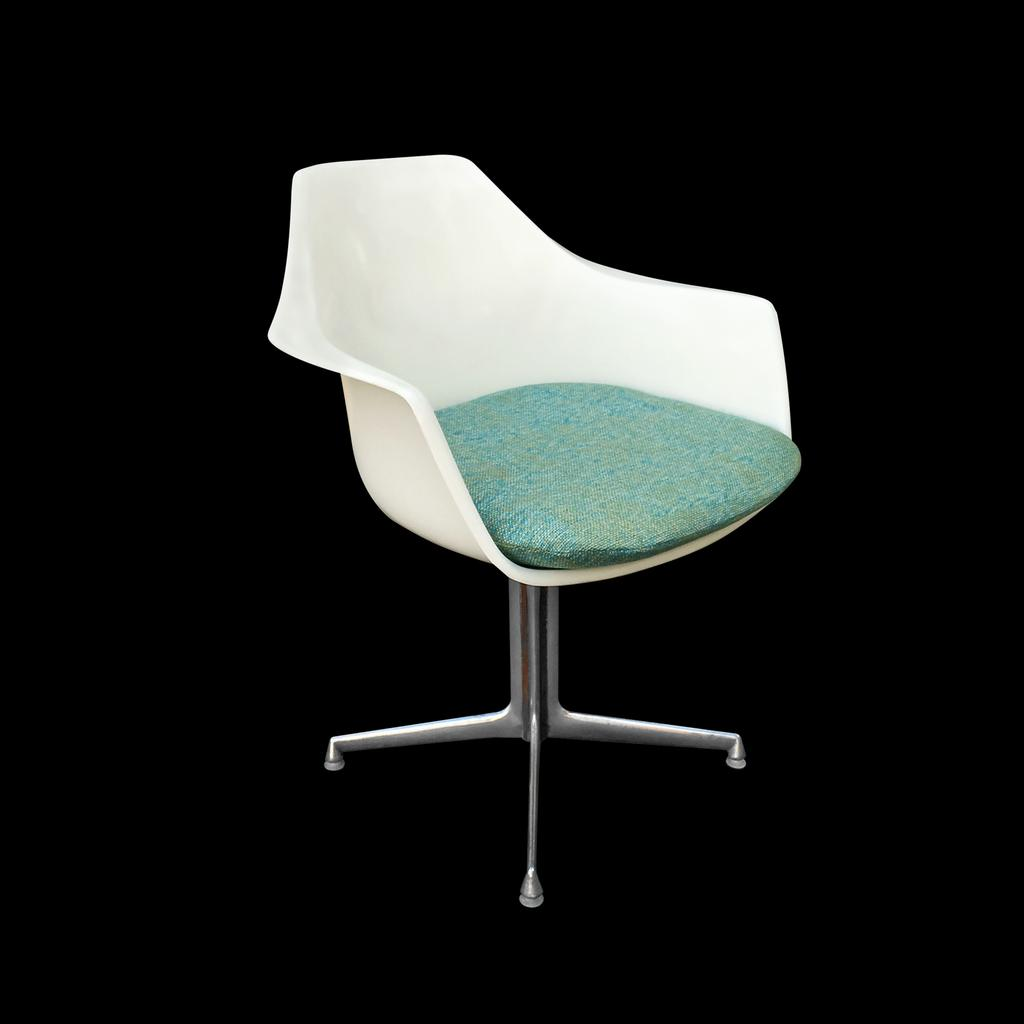Chair: (259, 145, 797, 909)
